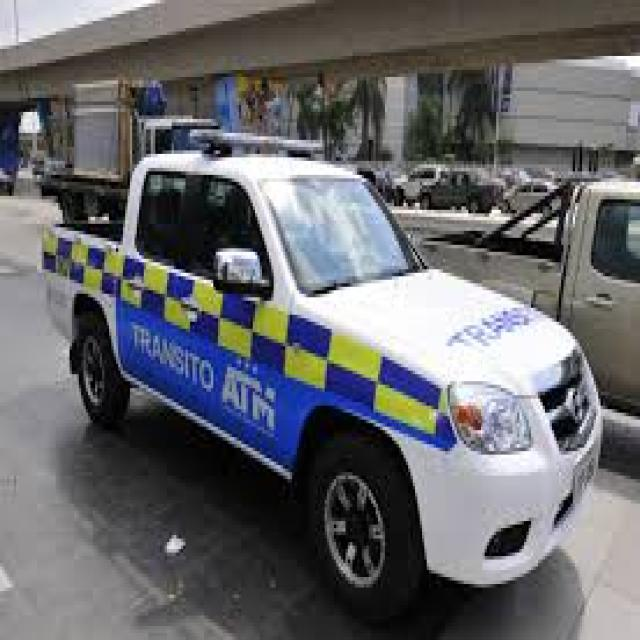CMT: (41, 152, 604, 618)
